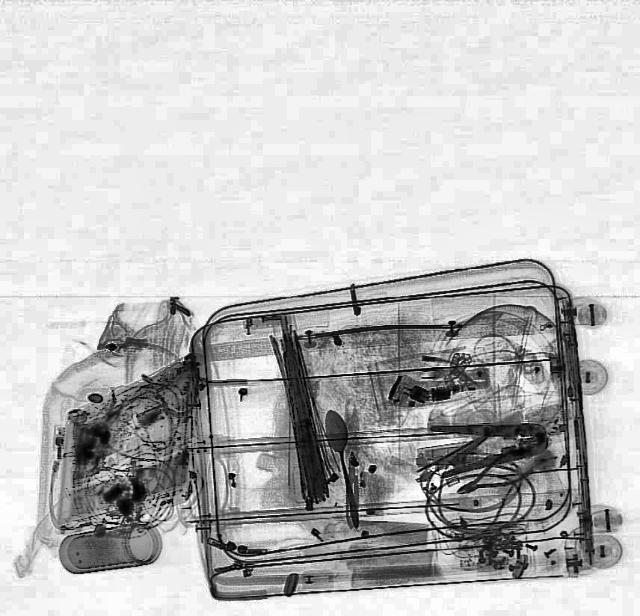Pliers: (428, 414, 550, 478), (446, 435, 552, 508)
